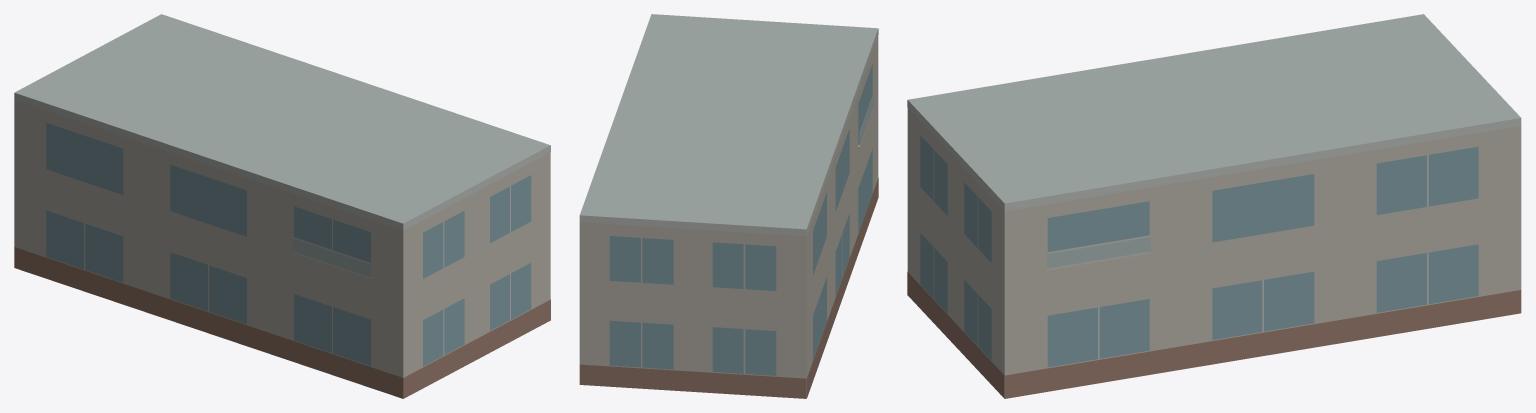
The model's file is survey-upis-32698469.glb.
3 renders of one model, left to right at view 1: azimuth 30°, elevation 25°; view 2: azimuth 150°, elevation 25°; view 3: azimuth 270°, elevation 25°, orthographic. The views are drawn at different scales.
Visible parts, largest first — view 1: survey-upis-32698469.tmp; view 2: survey-upis-32698469.tmp; view 3: survey-upis-32698469.tmp.
Part boxes in pixels (x1=…): survey-upis-32698469.tmp: x1=14, y1=14, x2=550, y2=398; survey-upis-32698469.tmp: x1=579, y1=14, x2=878, y2=398; survey-upis-32698469.tmp: x1=907, y1=14, x2=1521, y2=398.
Bounding box in the file's own units: 12.71 × 6.1 × 17.38.
